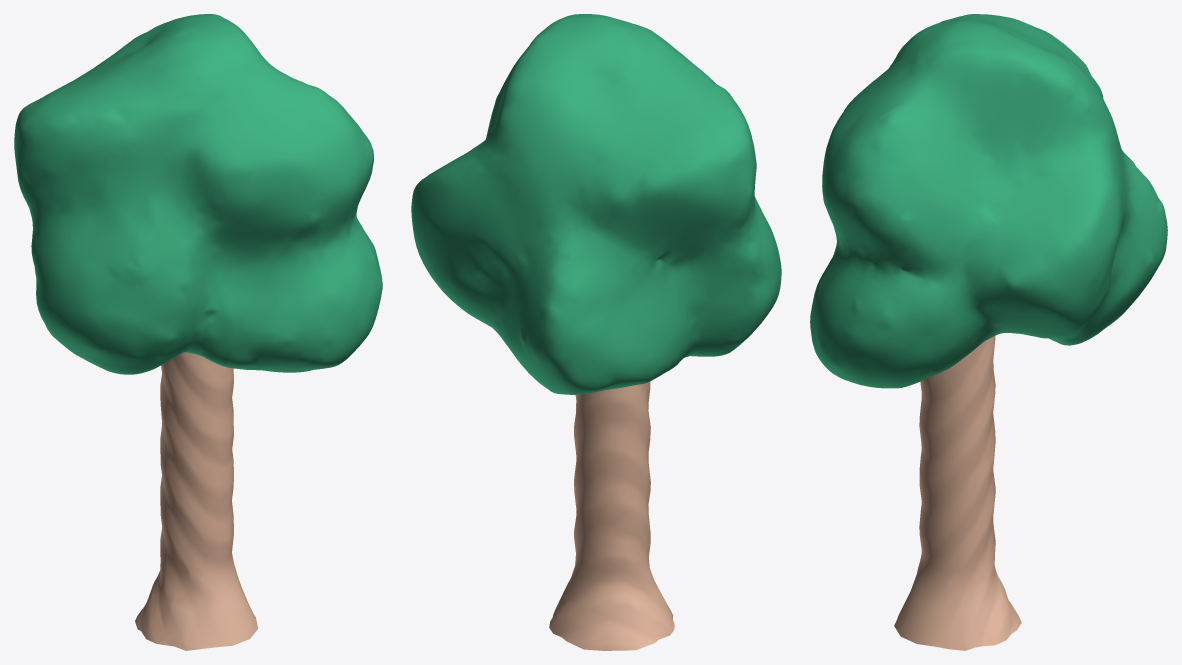
Rendered from tree.glb.
The picture shows the model from 3 angles, left to right: view 1: azimuth 30°, elevation 25°; view 2: azimuth 150°, elevation 25°; view 3: azimuth 270°, elevation 25°; orthographic projection. The views are drawn at different scales.
Parts seen in each view (by area): view 1: tree_leaves, tree_trunc; view 2: tree_leaves, tree_trunc; view 3: tree_leaves, tree_trunc.
Boxes of the visible parts, box(x1,y1,x2,y2) form: tree_leaves: box(14, 14, 382, 374); tree_trunc: box(135, 352, 258, 650); tree_leaves: box(411, 14, 781, 394); tree_trunc: box(549, 381, 674, 650); tree_leaves: box(810, 14, 1167, 388); tree_trunc: box(894, 336, 1021, 650).
Size of the model in its own units: 2.44 by 4.5 by 2.43.
